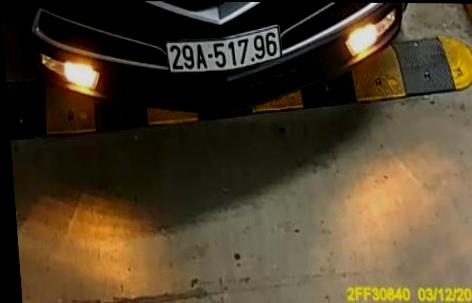License_Plate: (162, 27, 288, 78)
